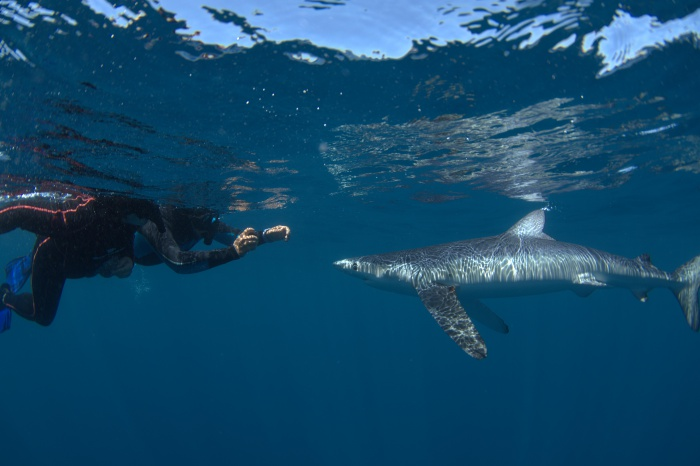Azul: (319, 190, 700, 373)
